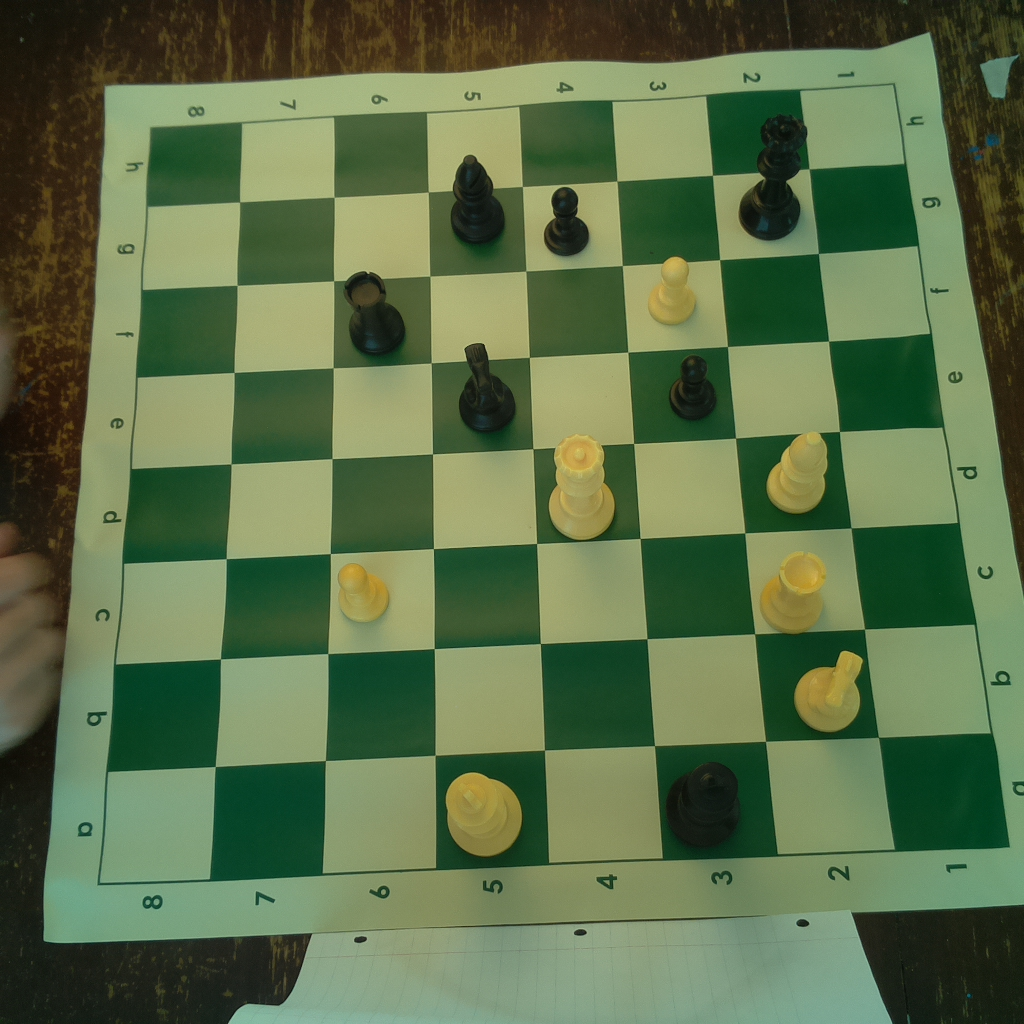black_bishop: (445, 149, 508, 243)
black_king: (664, 758, 747, 851)
black_knight: (446, 340, 516, 435)
black_pawn: (664, 347, 721, 425), (537, 184, 594, 258)
black_queen: (736, 113, 810, 243)
black_rook: (341, 269, 411, 360)
file_a: (98, 732, 1014, 886)
file_b: (108, 626, 993, 771)
file_c: (116, 521, 976, 665)
file_d: (125, 426, 959, 565)
file_e: (131, 332, 947, 473)
file_f: (136, 245, 933, 378)
file_g: (144, 165, 919, 292)
file_h: (146, 86, 907, 208)
outline: (101, 84, 1012, 884)
rank_1: (799, 84, 1011, 853)
rank_2: (706, 91, 897, 854)
rank_3: (612, 96, 779, 858)
rank_4: (521, 100, 668, 860)
rank_5: (428, 105, 551, 873)
rank_6: (321, 112, 441, 873)
rank_7: (212, 117, 334, 882)
rank_8: (99, 122, 244, 888)
white_bishop: (764, 428, 828, 518)
white_king: (442, 769, 523, 856)
white_knight: (792, 647, 866, 735)
white_pawn: (331, 558, 393, 626), (645, 249, 698, 328)
white_queen: (544, 431, 616, 544)
white_rook: (760, 549, 832, 635)
